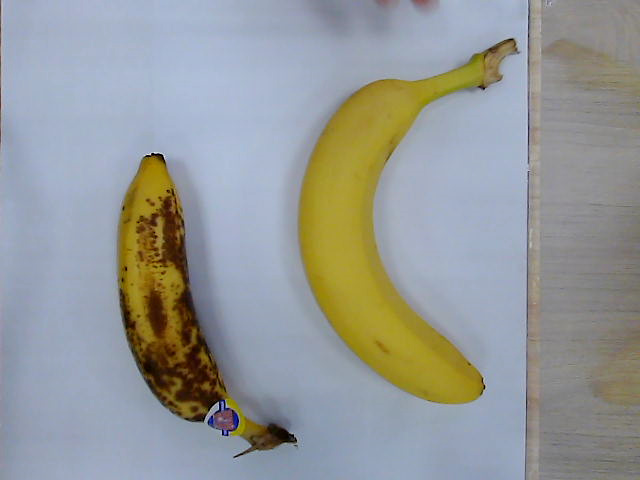fresh_banana: (298, 38, 517, 407)
rotten_banana: (117, 154, 293, 454)
